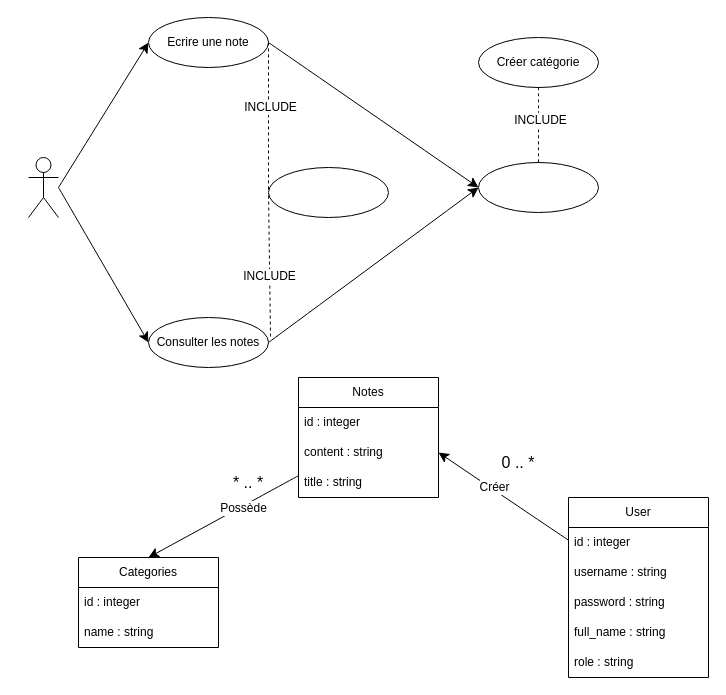
Some shapes in this 726 by 695 pixel diagram are drawn without their labels. Here are the shapes that lost their labels. From the top down, the centre of each, then its label:
the point at 43,187: Utilisateur
the point at 328,192: S'authentifier
the point at 538,187: ranger par catégorie
